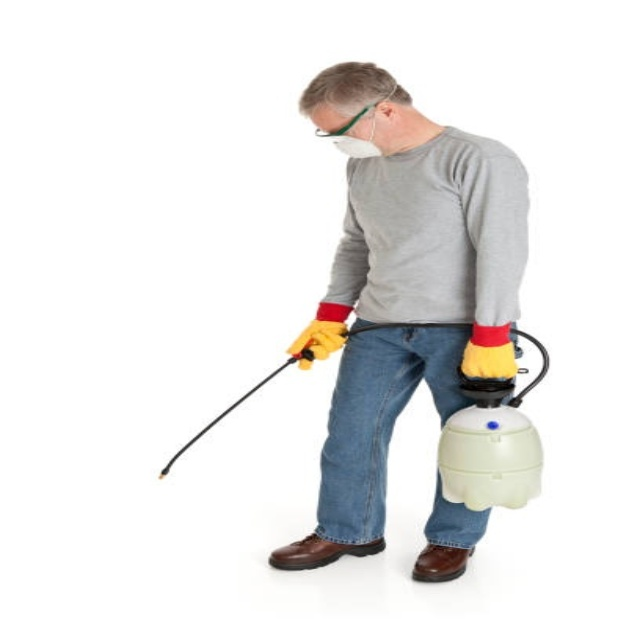Gafas: (317, 86, 394, 139)
Guantes: (287, 317, 350, 370), (461, 332, 518, 381)
Mascara: (329, 113, 385, 159)
